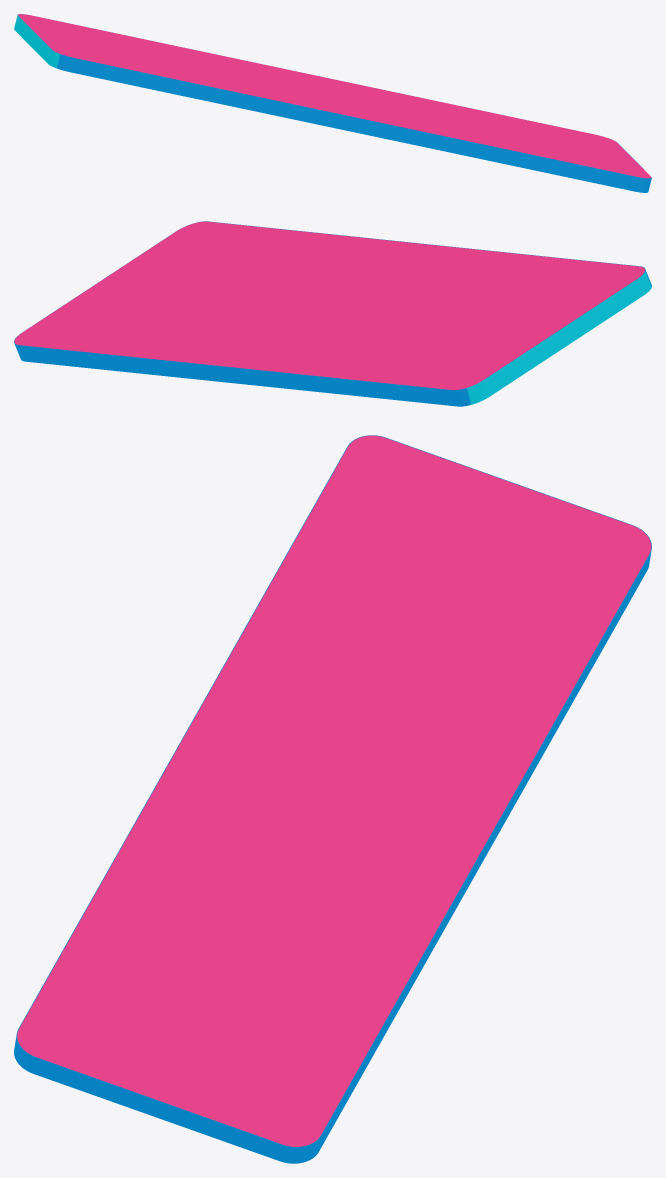
The model's file is bar4.glb.
The picture shows the model from 3 angles, top to bottom: view 1: azimuth 30°, elevation 25°; view 2: azimuth 150°, elevation 25°; view 3: azimuth 270°, elevation 25°; orthographic projection. The views are drawn at different scales.
Parts seen in each view (by area): view 1: Asset 82; view 2: Asset 82; view 3: Asset 82.
Part boxes in pixels (box(x1,y1,x2,y2)): Asset 82: box(14, 14, 651, 192); Asset 82: box(14, 221, 651, 406); Asset 82: box(14, 435, 651, 1163).
Size of the model in its own units: 6.91 by 2.61 by 4.58.
